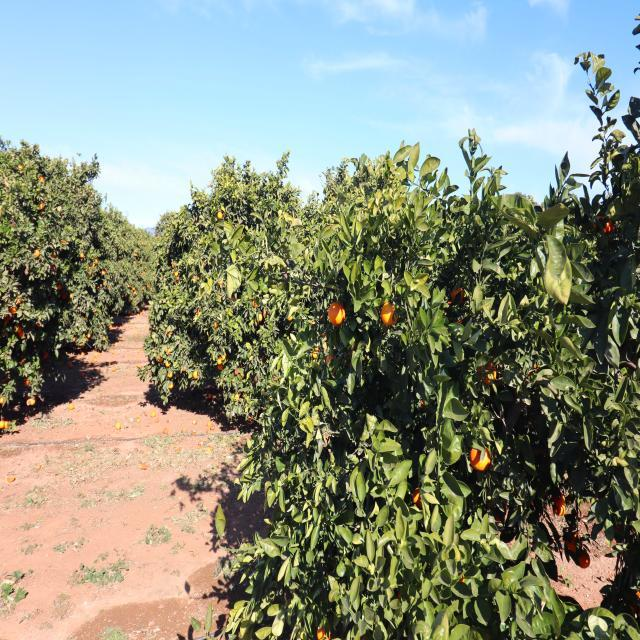Jeruk Sudah Matang: (470, 448, 490, 470), (381, 301, 399, 324), (328, 304, 346, 324), (316, 626, 332, 640), (451, 289, 464, 303), (554, 500, 565, 514), (579, 555, 590, 567)
